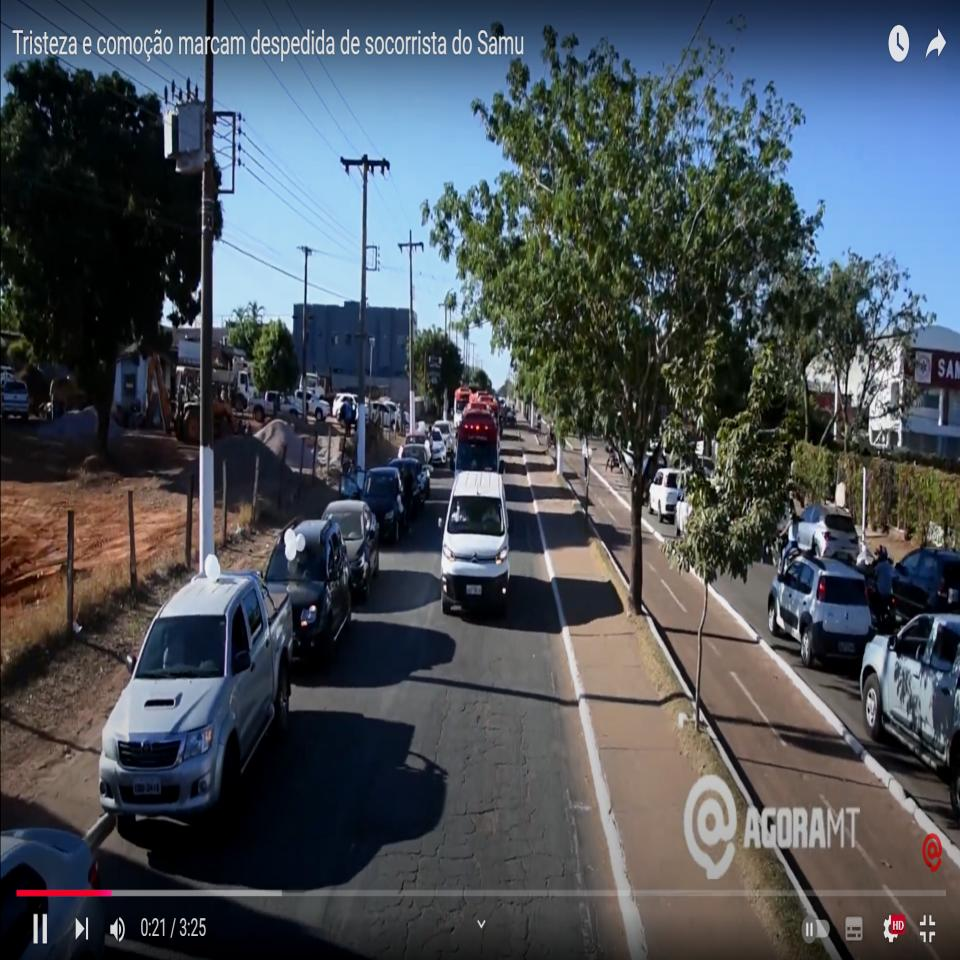ambulancia: (449, 409, 505, 476)
